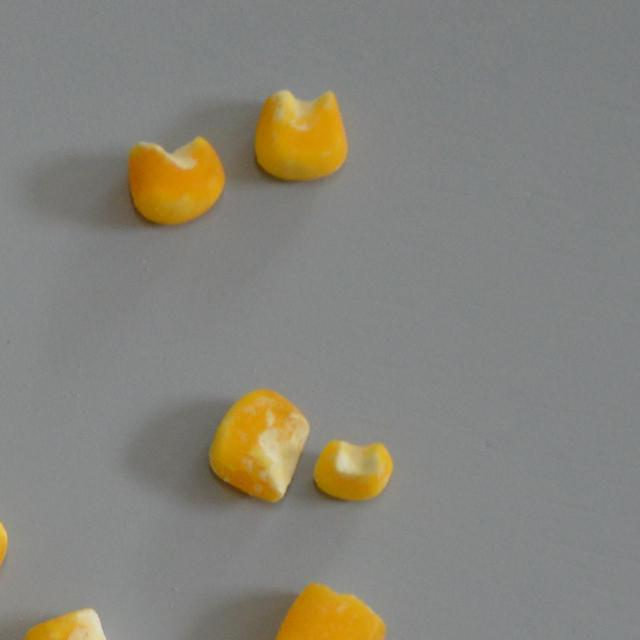no_canjicado: (126, 134, 226, 226), (252, 86, 348, 181), (261, 580, 386, 640), (310, 434, 394, 504)
pelicula: (207, 388, 310, 504), (22, 606, 122, 640)
